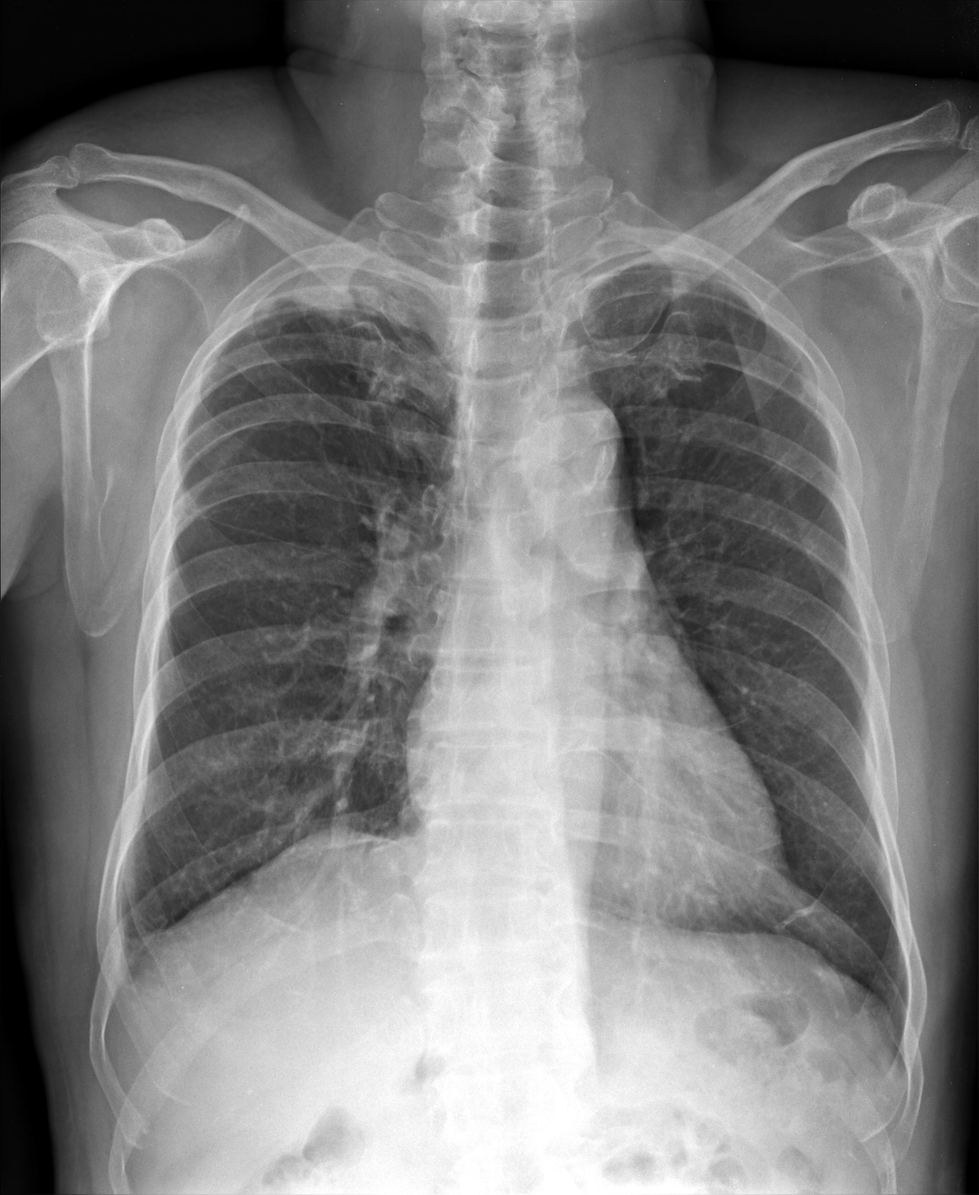Aortic enlargement: (523, 397, 631, 495)
Pleural thickening: (247, 248, 416, 315), (86, 886, 198, 967)
Pulmonary fibrosis: (309, 297, 385, 337)
